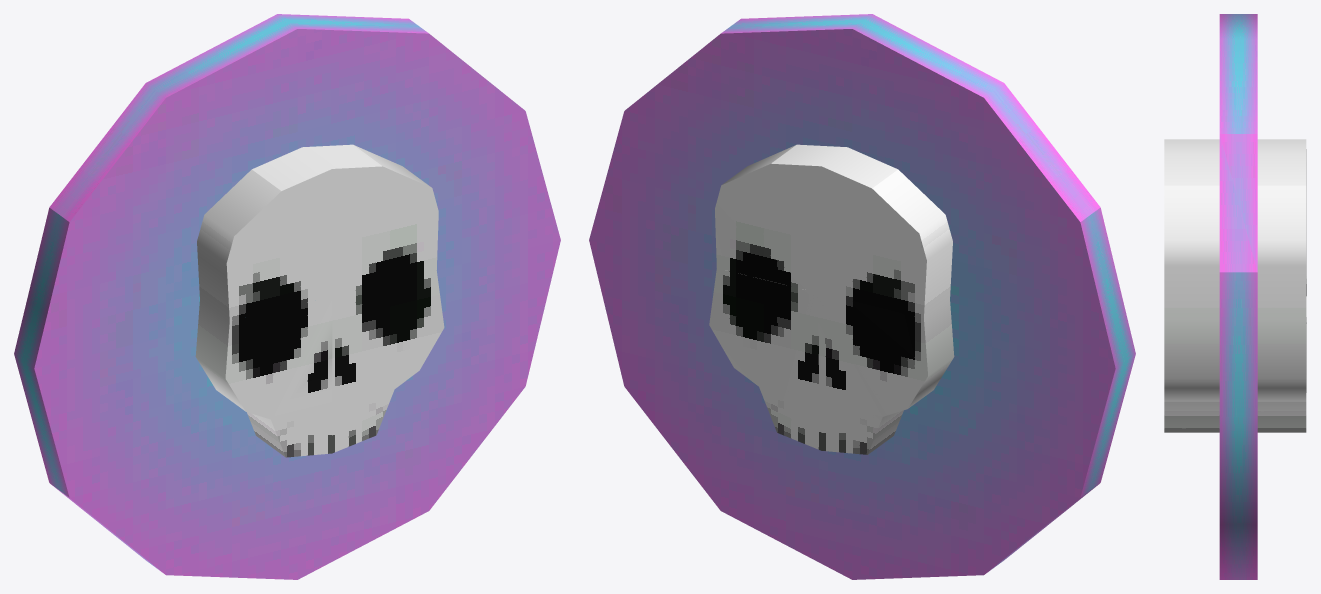
File: Rampage.fbx
3 renders of one model, left to right at view 1: azimuth 30°, elevation 25°; view 2: azimuth 150°, elevation 25°; view 3: azimuth 270°, elevation 25°, orthographic. The views are drawn at different scales.
Parts seen in each view (by area): view 1: killfrenzy_l0; view 2: killfrenzy_l0; view 3: killfrenzy_l0.
Boxes of the visible parts, box(x1,y1,x2,y2) form: killfrenzy_l0: box(14, 14, 560, 579); killfrenzy_l0: box(589, 14, 1135, 579); killfrenzy_l0: box(1164, 14, 1306, 579).
Bounding box in the file's own units: 60 × 60 × 15.06.
2 materials, 2 textured.
